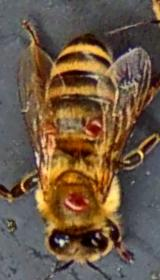varroa_mite: (51, 180, 98, 215), (82, 106, 109, 141)
